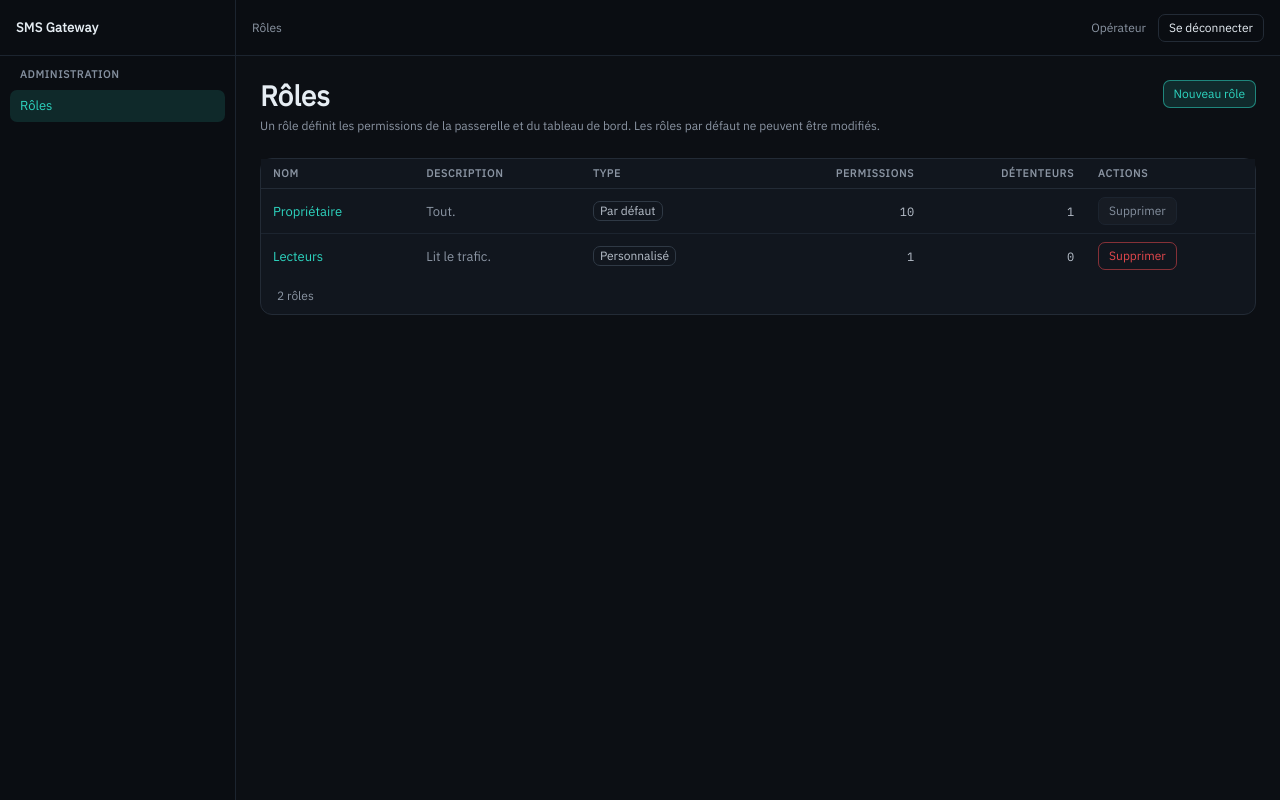
Test: a role held since the list was read is refused in its dialog, and the list read again
Expected: the column heading "Lecteurs" is shown, [261, 234, 414, 278]
Click the button "Supprimer" in the row of "Lit le trafic.": coordinates (1137, 256) [1098, 242, 1177, 270]
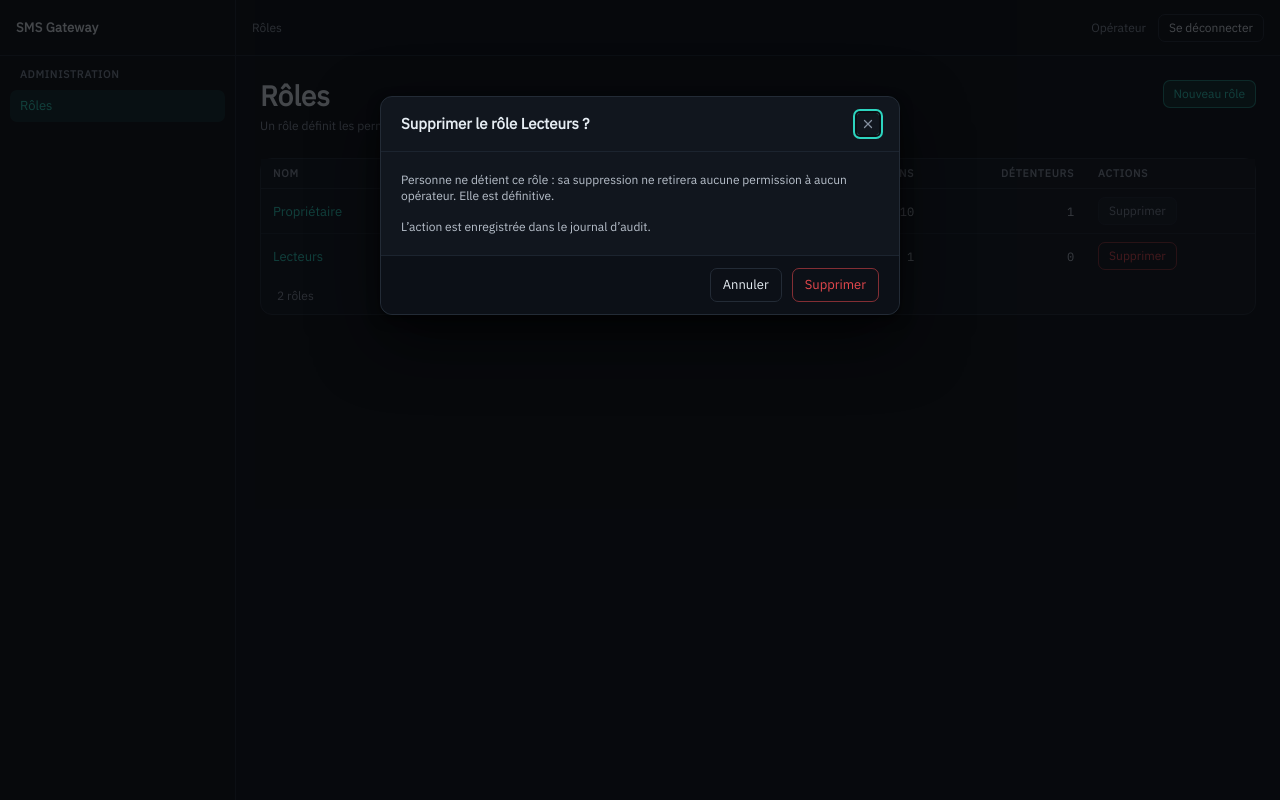
Click the button "Supprimer": coordinates (835, 285) [792, 268, 879, 302]
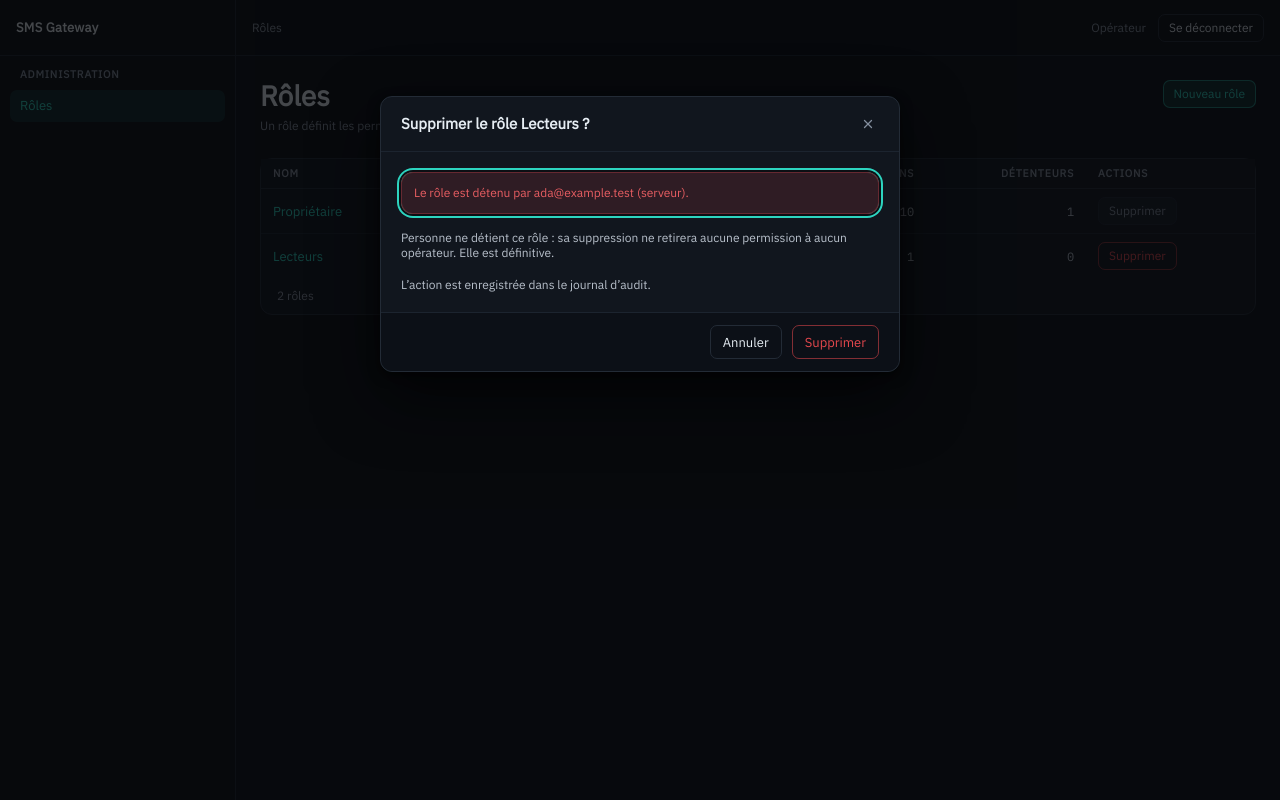
Now the message reads "Le rôle est détenu par ada@example.test (serveur).", box [414, 185, 689, 200]
